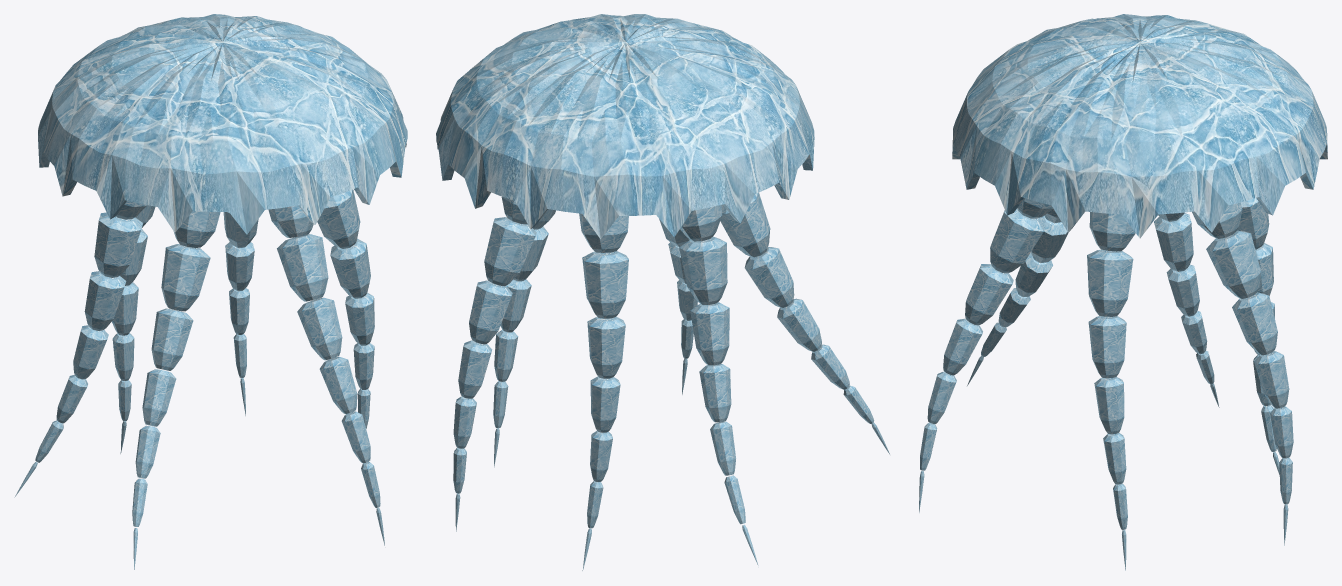
Rendered from IceJellyfishAssembled.obj.
The picture shows the model from 3 angles, left to right: view 1: azimuth 30°, elevation 25°; view 2: azimuth 150°, elevation 25°; view 3: azimuth 270°, elevation 25°; orthographic projection. The views are drawn at different scales.
Parts seen in each view (by area): view 1: IceJellyfishBell, Tentacle_01_Segment_01, Tentacle_02_Segment_01, Tentacle_03_Segment_01, Tentacle_01_Segment_02, Tentacle_02_Segment_02, Tentacle_00_Segment_01, Tentacle_03_Segment_02, Tentacle_00_Segment_02, Tentacle_01_Segment_03, Tentacle_02_Segment_03, Tentacle_03_Segment_03 (+16 smaller); view 2: IceJellyfishBell, Tentacle_03_Segment_01, Tentacle_04_Segment_01, Tentacle_05_Segment_01, Tentacle_03_Segment_02, Tentacle_04_Segment_02, Tentacle_02_Segment_02, Tentacle_05_Segment_02, Tentacle_02_Segment_01, Tentacle_03_Segment_03, Tentacle_02_Segment_03, Tentacle_05_Segment_03 (+11 smaller); view 3: IceJellyfishBell, Tentacle_05_Segment_01, Tentacle_00_Segment_01, Tentacle_01_Segment_01, Tentacle_05_Segment_02, Tentacle_00_Segment_02, Tentacle_01_Segment_02, Tentacle_03_Segment_02, Tentacle_05_Segment_03, Tentacle_00_Segment_03, Tentacle_01_Segment_03, Tentacle_00_Segment_00 (+14 smaller).
Part boxes in pixels (left/top/right/bottom): IceJellyfishBell: left=38, top=14, right=407, bottom=234; Tentacle_01_Segment_01: left=277, top=234, right=328, bottom=301; Tentacle_02_Segment_01: left=161, top=244, right=210, bottom=311; Tentacle_03_Segment_01: left=94, top=212, right=143, bottom=277; Tentacle_01_Segment_02: left=297, top=297, right=342, bottom=360; Tentacle_02_Segment_02: left=151, top=308, right=193, bottom=370; Tentacle_00_Segment_01: left=317, top=189, right=360, bottom=248; Tentacle_03_Segment_02: left=84, top=271, right=126, bottom=330; Tentacle_00_Segment_02: left=330, top=239, right=370, bottom=298; Tentacle_01_Segment_03: left=319, top=356, right=357, bottom=413; Tentacle_02_Segment_03: left=142, top=369, right=176, bottom=426; Tentacle_03_Segment_03: left=73, top=325, right=108, bottom=379; IceJellyfishBell: left=436, top=14, right=814, bottom=239; Tentacle_03_Segment_01: left=679, top=236, right=727, bottom=304; Tentacle_04_Segment_01: left=582, top=251, right=628, bottom=318; Tentacle_05_Segment_01: left=484, top=217, right=536, bottom=286; Tentacle_03_Segment_02: left=690, top=302, right=729, bottom=365; Tentacle_04_Segment_02: left=587, top=316, right=625, bottom=378; Tentacle_02_Segment_02: left=744, top=247, right=794, bottom=307; Tentacle_05_Segment_02: left=469, top=280, right=512, bottom=344; Tentacle_02_Segment_01: left=720, top=192, right=770, bottom=257; Tentacle_03_Segment_03: left=699, top=363, right=731, bottom=422; Tentacle_02_Segment_03: left=777, top=298, right=821, bottom=351; Tentacle_05_Segment_03: left=458, top=340, right=492, bottom=398; IceJellyfishBell: left=952, top=14, right=1327, bottom=238; Tentacle_05_Segment_01: left=1206, top=230, right=1261, bottom=298; Tentacle_00_Segment_01: left=1087, top=249, right=1133, bottom=316; Tentacle_01_Segment_01: left=990, top=209, right=1045, bottom=273; Tentacle_05_Segment_02: left=1232, top=292, right=1277, bottom=355; Tentacle_00_Segment_02: left=1088, top=316, right=1126, bottom=378; Tentacle_01_Segment_02: left=965, top=264, right=1013, bottom=325; Tentacle_03_Segment_02: left=1154, top=213, right=1193, bottom=271; Tentacle_05_Segment_03: left=1254, top=351, right=1289, bottom=408; Tentacle_00_Segment_03: left=1094, top=377, right=1124, bottom=434; Tentacle_01_Segment_03: left=943, top=318, right=982, bottom=375; Tentacle_00_Segment_00: left=1089, top=212, right=1135, bottom=251.
Size of the model in its own units: 45.9 by 60.03 by 47.89.
2 materials, 2 textured.
